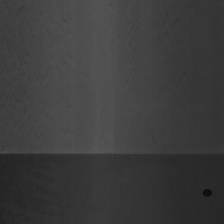welding_line: (1, 144, 224, 165), (200, 188, 213, 199)
